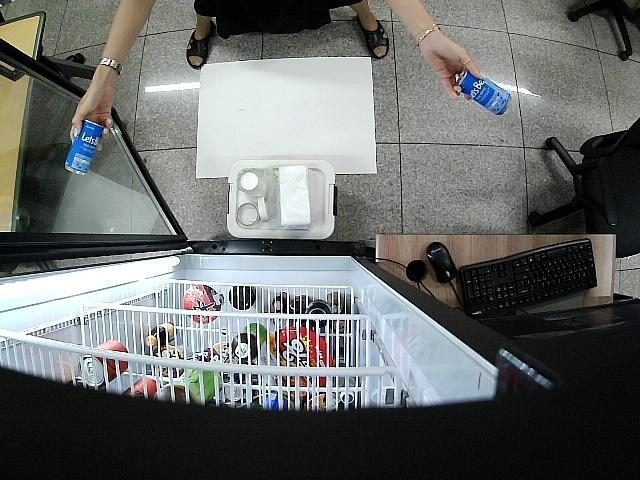15_letsbe: (456, 69, 512, 116), (65, 120, 102, 176)
